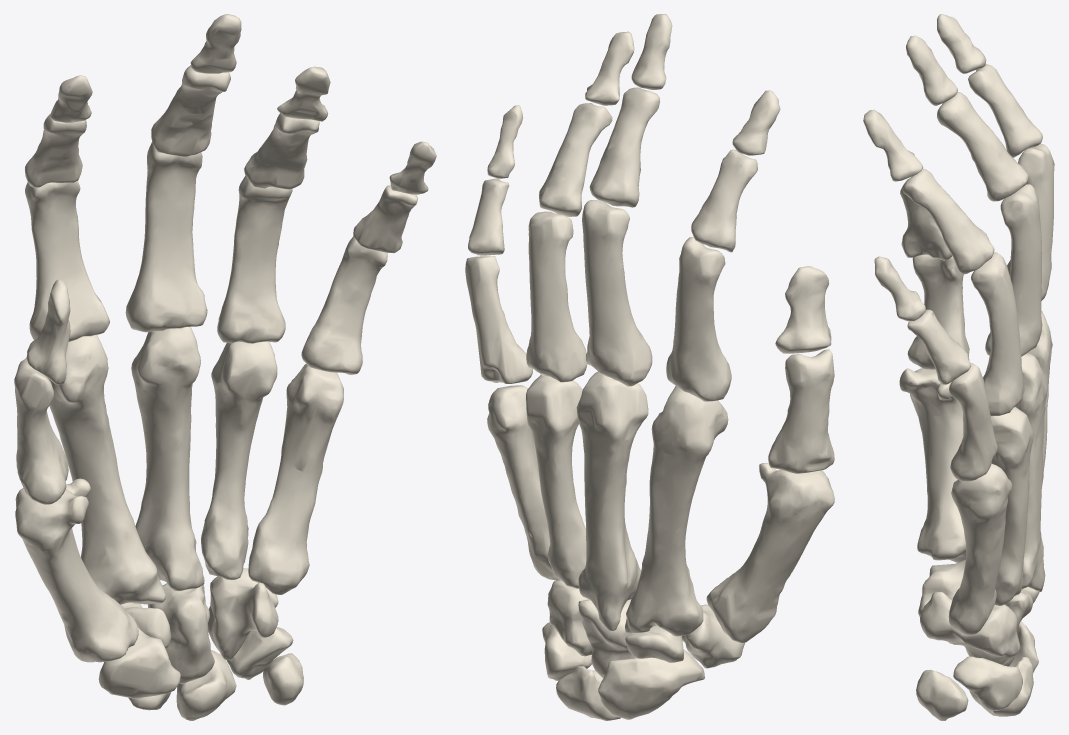
The model's file is hand_bones_left.glb.
3 renders of one model, left to right at view 1: azimuth 30°, elevation 25°; view 2: azimuth 150°, elevation 25°; view 3: azimuth 270°, elevation 25°, orthographic. The views are drawn at different scales.
Parts seen in each view (by area): view 1: mc2, mc3, mc5, mc1, mc4, pp3, pp4, pp2, pp5, pp1, hamate, mp3 (+14 smaller); view 2: mc2, mc3, mc1, pp3, mc4, pp4, pp2, pp1, mc5, pp5, scaphoid, mp3 (+14 smaller); view 3: mc1, mc5, pp4, mc4, pp3, mc3, mp3, mp4, pp5, hamate, pp1, mp2 (+14 smaller).
Part boxes in pixels (x1,y1,x2,y2): mc2: (49,335,165,604); mc3: (131,327,204,591); mc5: (248,364,343,594); mc1: (15,478,138,662); mc4: (201,341,277,579); pp3: (125,142,207,332); pp4: (217,175,292,343); pp2: (25,181,109,341); pp5: (301,236,387,374); pp1: (14,358,68,504); hamate: (208,568,278,659); mp3: (151,65,230,156); mc2: (625,386,728,636); mc3: (576,371,648,630); mc1: (706,463,834,643); pp3: (582,200,652,386); mc4: (526,375,586,588); pp4: (526,211,587,382); pp2: (666,236,731,401); pp1: (768,349,834,473); mc5: (487,385,559,580); pp5: (465,256,532,383); scaphoid: (598,649,704,719); mp3: (589,87,659,207); mc1: (899,368,965,562); mc5: (948,463,1012,635); pp4: (971,252,1024,416); mc4: (990,407,1033,605); pp3: (985,184,1042,356); mc3: (1015,353,1047,591); mp3: (937,92,1028,201); mp4: (902,168,994,274); pp5: (949,362,997,481); hamate: (920,591,1020,664); pp1: (907,254,969,369); mp2: (968,64,1042,157).
Size of the model in its own units: 0.1056 by 0.1898 by 0.0492.
